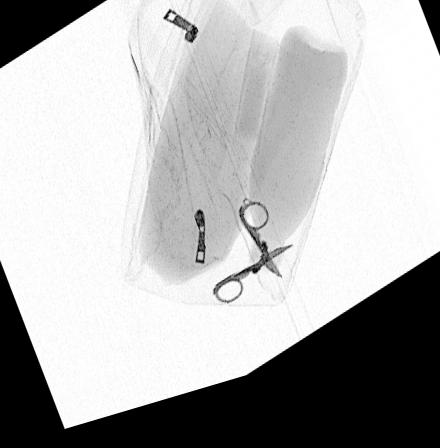Scissors: (211, 208, 296, 316)
